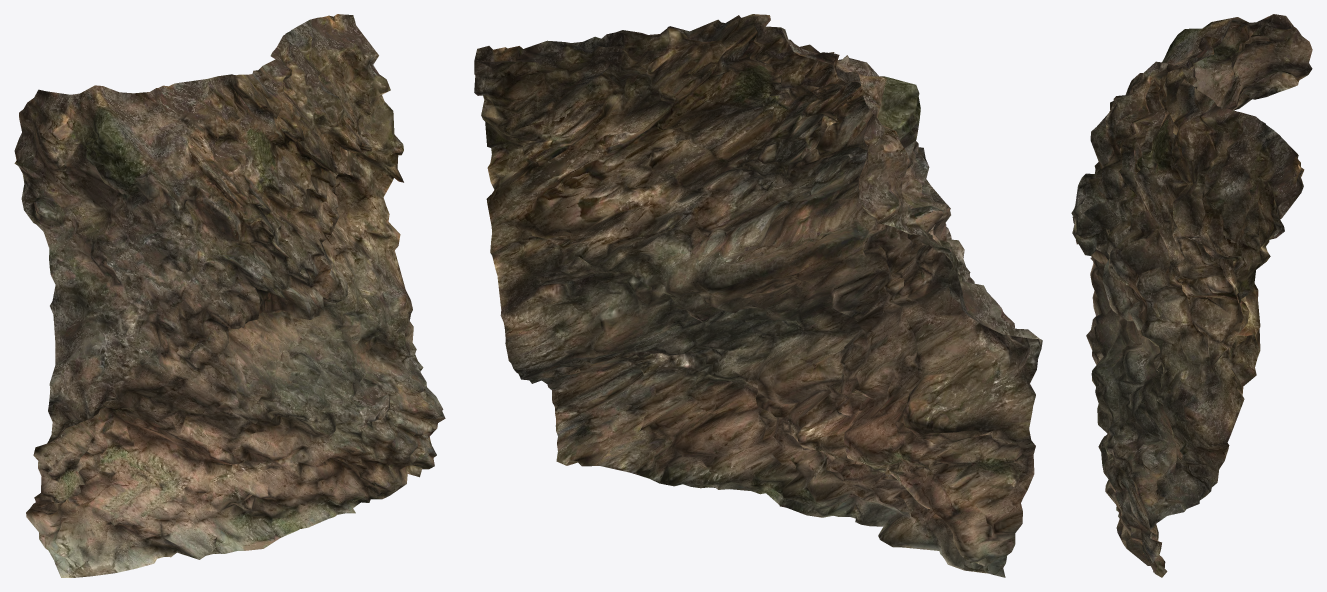
The model's file is mountainside_mid.glb.
3 views of the same model, side by side, from view 1: azimuth 30°, elevation 25°; view 2: azimuth 150°, elevation 25°; view 3: azimuth 270°, elevation 25° (orthographic). The views are drawn at different scales.
Parts seen in each view (by area): view 1: mountainside; view 2: mountainside; view 3: mountainside.
Boxes of the visible parts, box(x1,y1,x2,y2) form: mountainside: box(14, 14, 445, 577); mountainside: box(474, 14, 1042, 577); mountainside: box(1071, 14, 1312, 577).
Bounding box in the file's own units: 10.2 × 10.52 × 5.25.
Materials: 1 (1 with a texture image).
